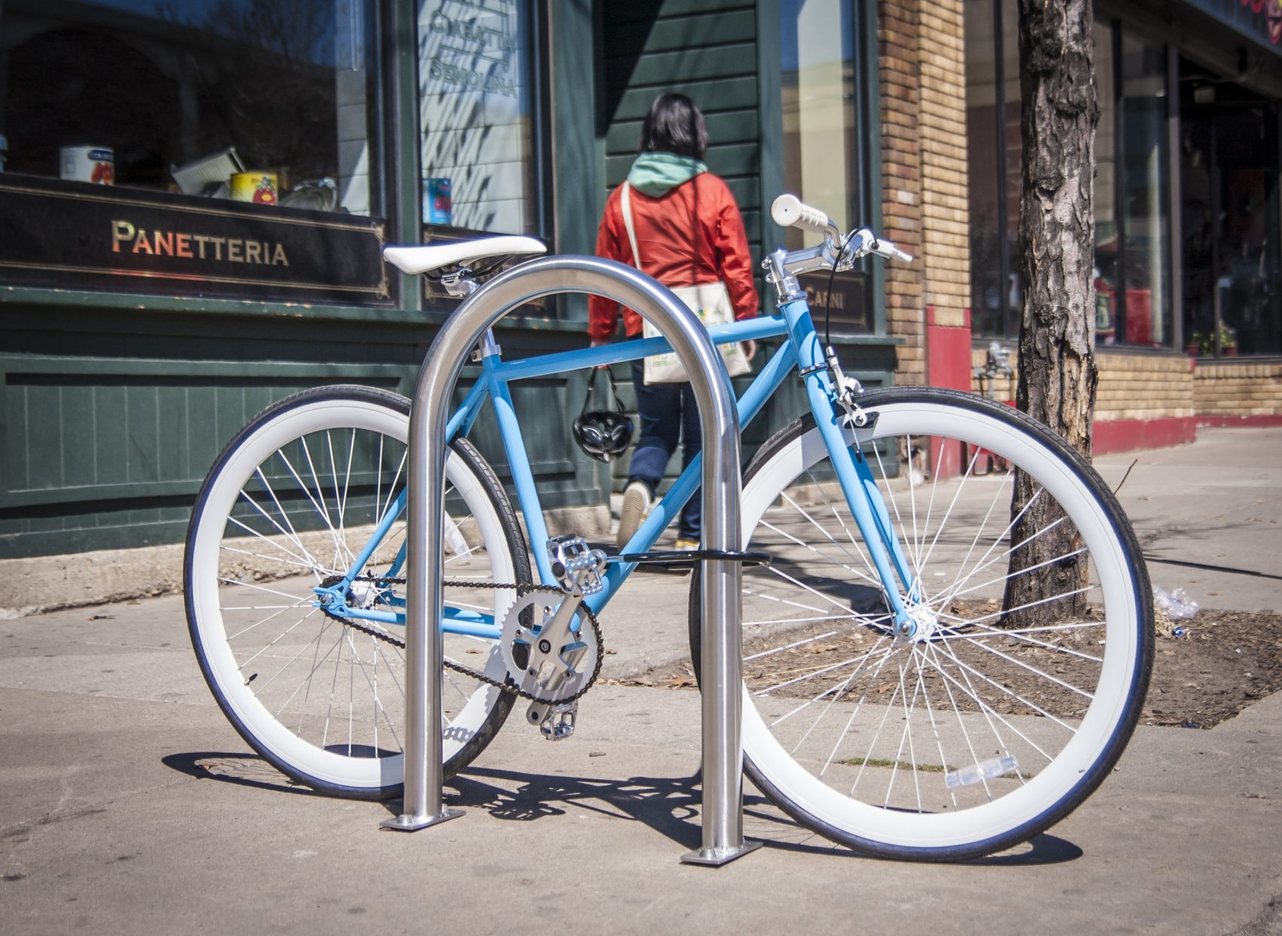Bicycle: (161, 192, 1168, 873)
